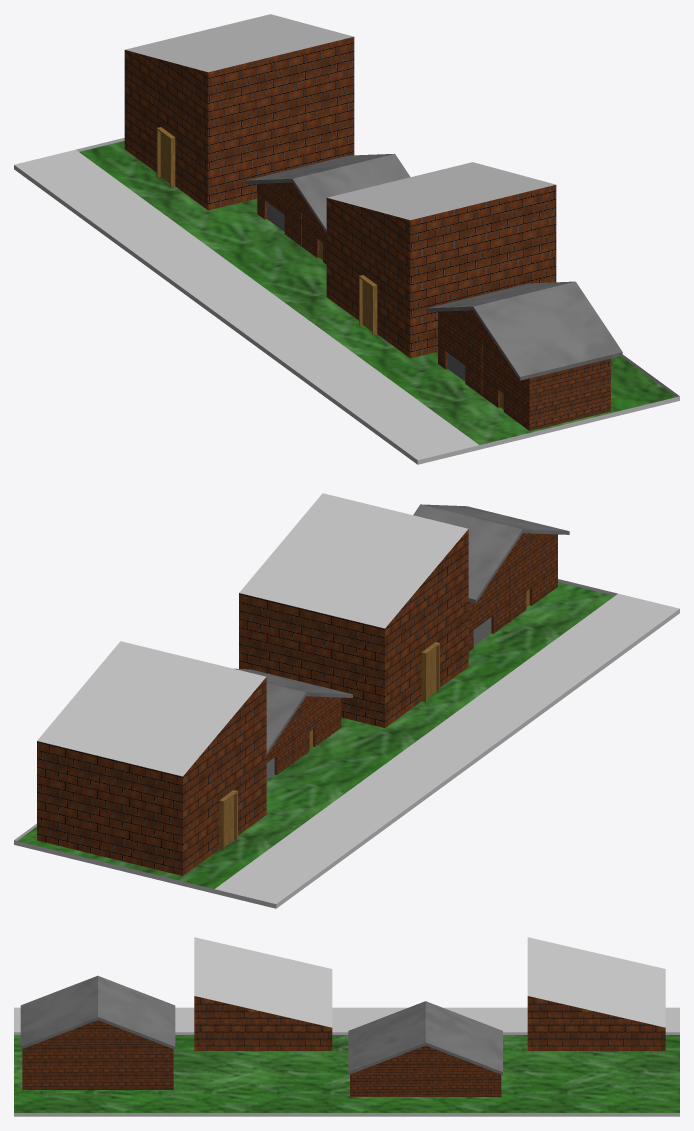
File: Bloco 8.fbx
The picture shows the model from 3 angles, top to bottom: view 1: azimuth 30°, elevation 25°; view 2: azimuth 150°, elevation 25°; view 3: azimuth 270°, elevation 25°; orthographic projection. The views are drawn at different scales.
Parts seen in each view (by area): view 1: Bloco 8; view 2: Bloco 8; view 3: Bloco 8.
Boxes of the visible parts, box(x1,y1,x2,y2) form: Bloco 8: box(14, 14, 679, 464); Bloco 8: box(14, 493, 679, 908); Bloco 8: box(14, 937, 679, 1116).
Bounding box in the file's own units: 3000 × 1527 × 8000.
